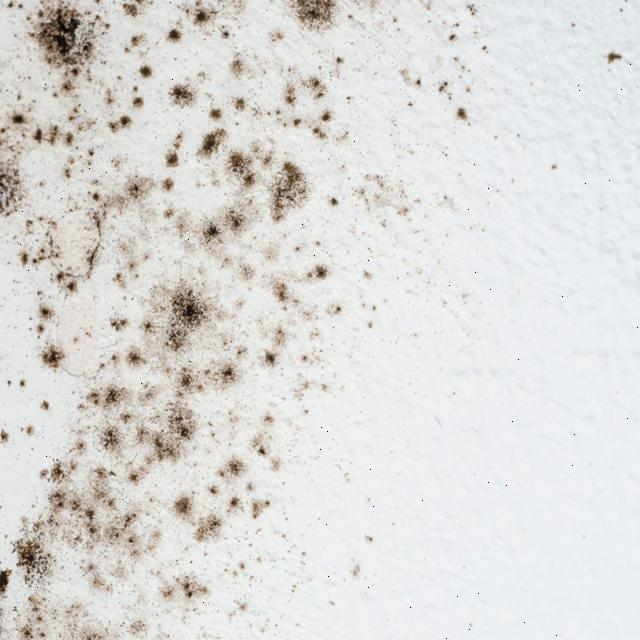dampness: (0, 10, 505, 640)
